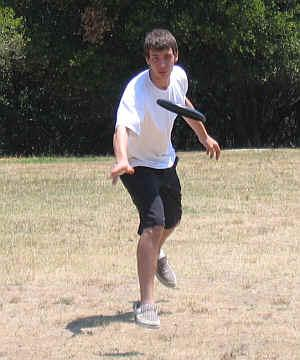person: (110, 29, 221, 332)
